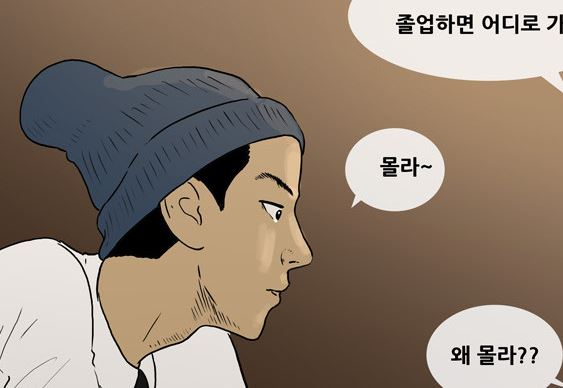hat: (18, 43, 305, 203)
